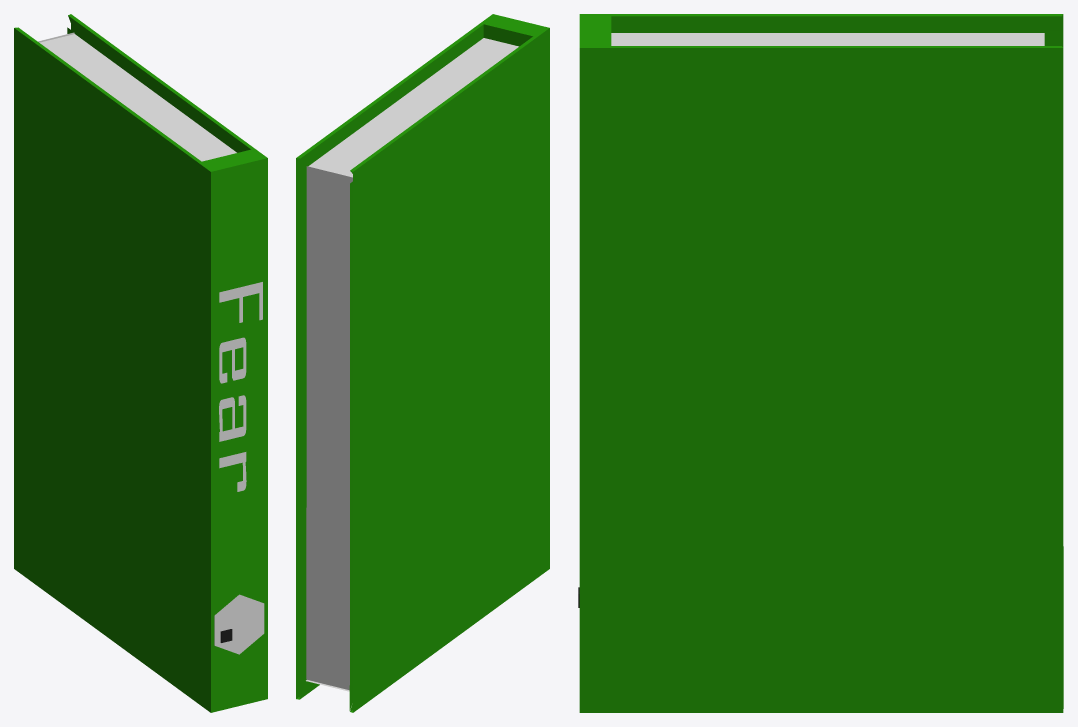
The model's file is Book_Fear.fbx.
3 renders of one model, left to right at view 1: azimuth 30°, elevation 25°; view 2: azimuth 150°, elevation 25°; view 3: azimuth 270°, elevation 25°, orthographic. The views are drawn at different scales.
Parts seen in each view (by area): view 1: Book, Text, Cylinder; view 2: Book; view 3: Book.
Part boxes in pixels (bbox=[...]): Book: bbox=[14, 14, 267, 712]; Text: bbox=[219, 282, 262, 491]; Cylinder: bbox=[214, 594, 264, 654]; Book: bbox=[296, 14, 549, 712]; Book: bbox=[579, 14, 1063, 712].
Size of the model in its own units: 6.67 by 60.59 by 40.09.
